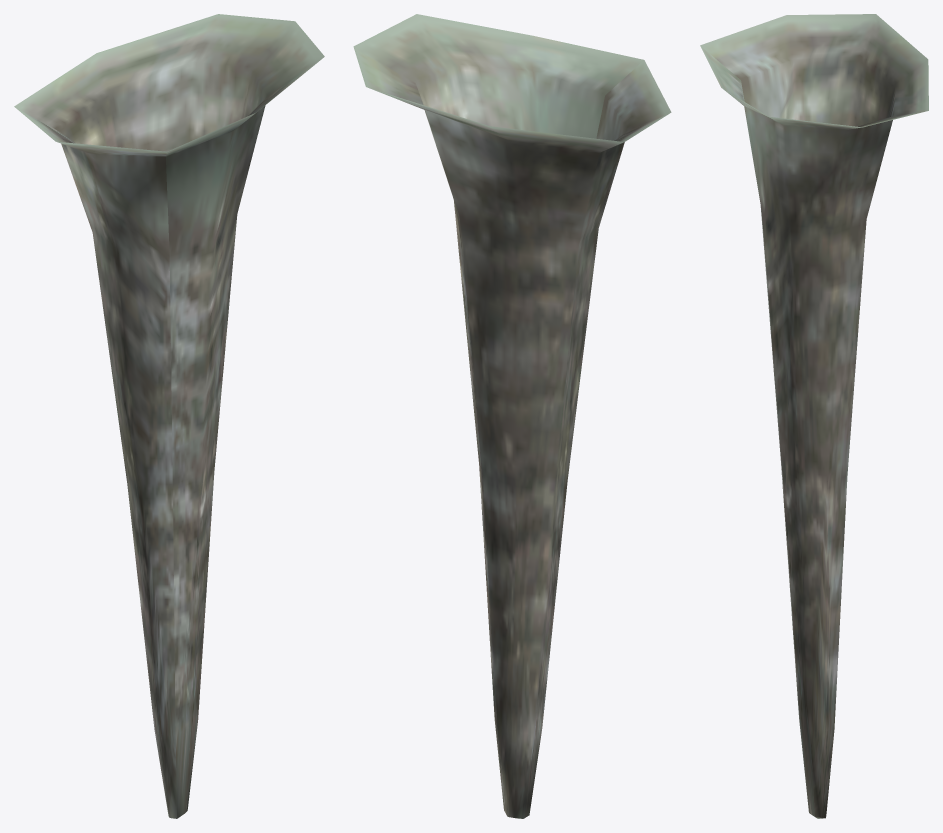
Rendered from TROLLHOLE02_PS-UPPERSTALAG11.fbx.
3 renders of one model, left to right at view 1: azimuth 30°, elevation 25°; view 2: azimuth 150°, elevation 25°; view 3: azimuth 270°, elevation 25°, orthographic.
Visible parts, largest first — view 1: TROLLHOLE02_PS-UPPERSTALAG11; view 2: TROLLHOLE02_PS-UPPERSTALAG11; view 3: TROLLHOLE02_PS-UPPERSTALAG11.
Boxes of the visible parts, x1,y1,x2,y2 form: TROLLHOLE02_PS-UPPERSTALAG11: [14, 14, 324, 818]; TROLLHOLE02_PS-UPPERSTALAG11: [353, 14, 671, 818]; TROLLHOLE02_PS-UPPERSTALAG11: [700, 14, 928, 818].
Size of the model in its own units: 16972 by 43789 by 11905.
Materials: 1 (1 with a texture image).
